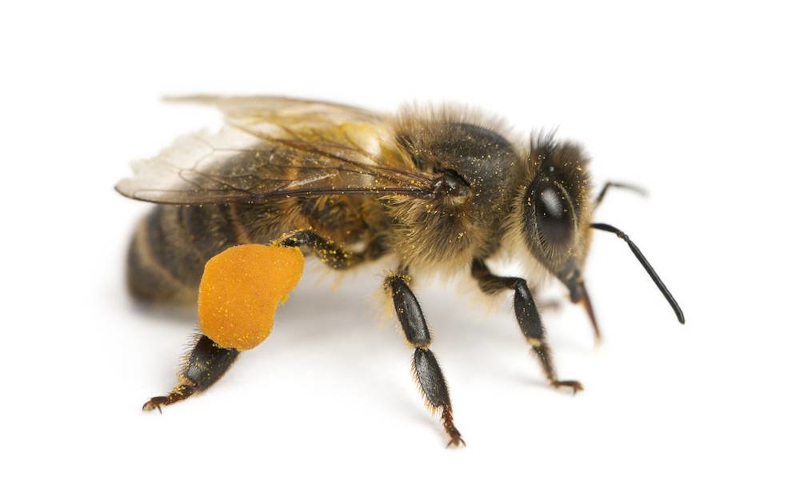abeja: (104, 61, 711, 449)
